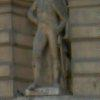Statue: (20, 4, 71, 86)
